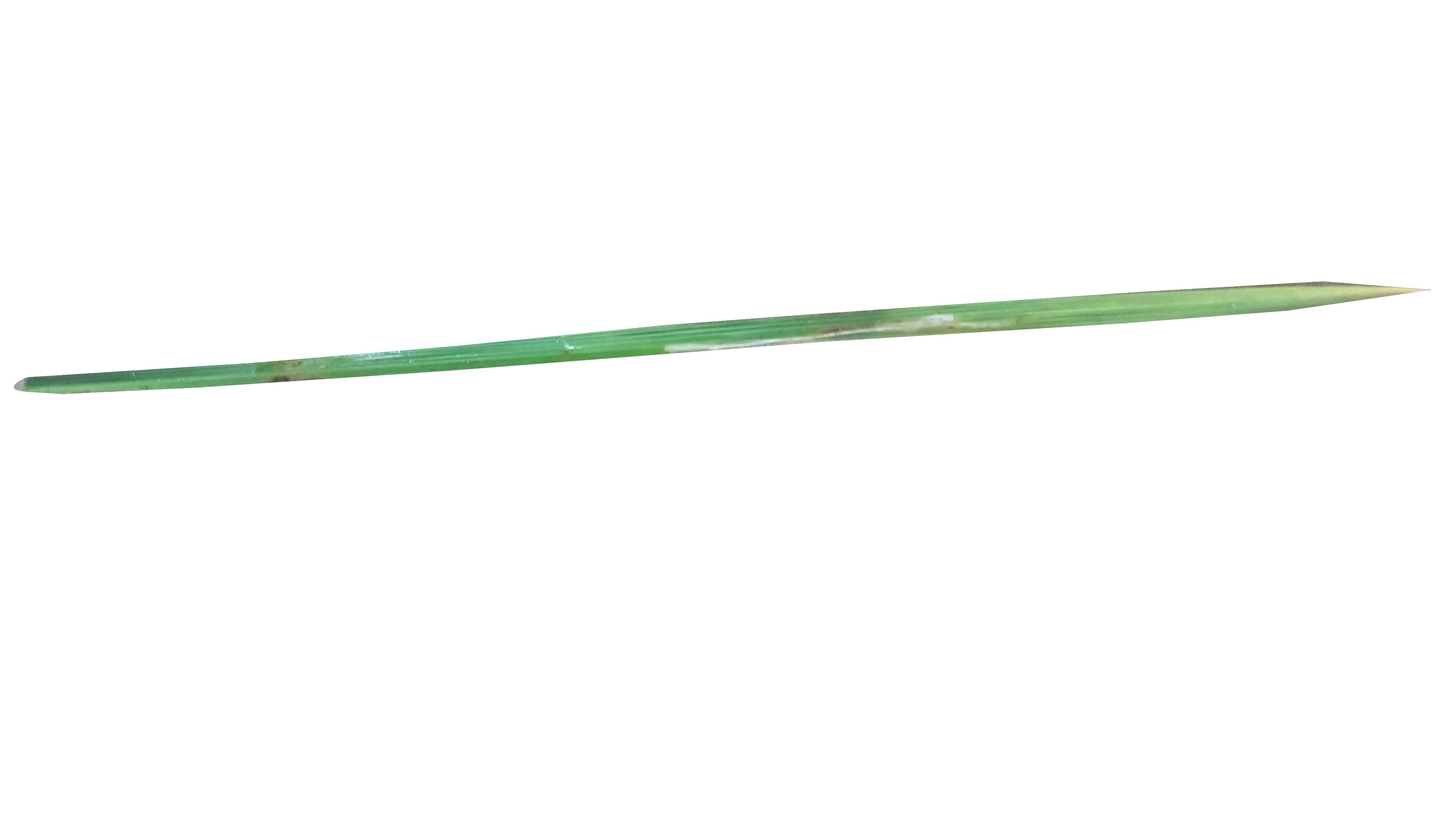Blight: (653, 310, 996, 364)
Tungro: (1167, 277, 1443, 310)
